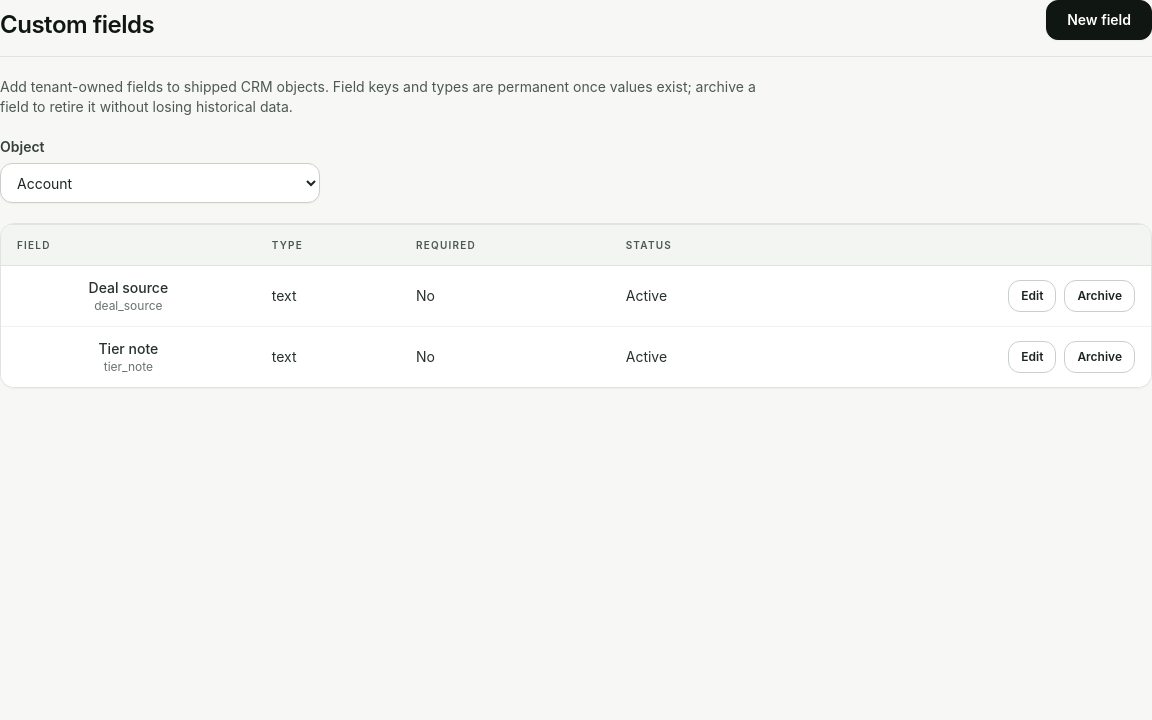
Test: CustomFieldsPage accessibility › asks before archiving a field, and archives only once confirmed
This screenshot has width=1152, height=720.
Later steps or results of the test are not shown.
Check: the text "Deal source" is shown, box [89,279,168,296]
Click the button with aria-label "Archive Deal source": (1100, 296) [1064,280,1135,312]
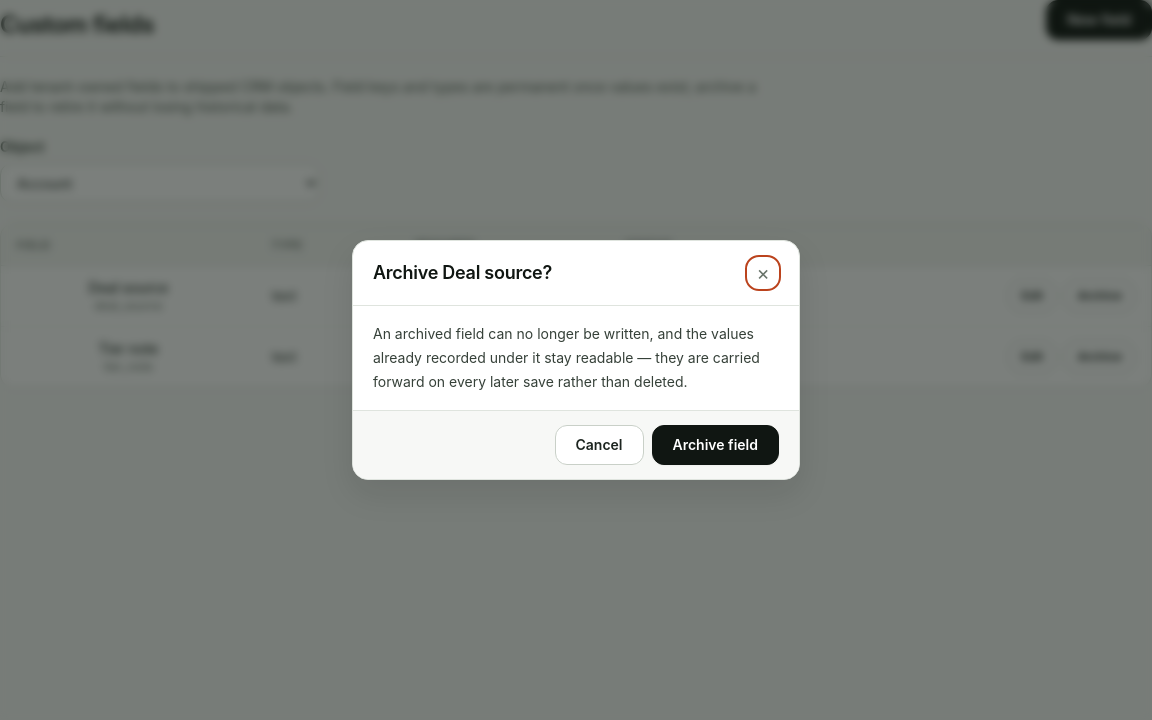
Check: the dialog is shown, box [352,240,800,480]
